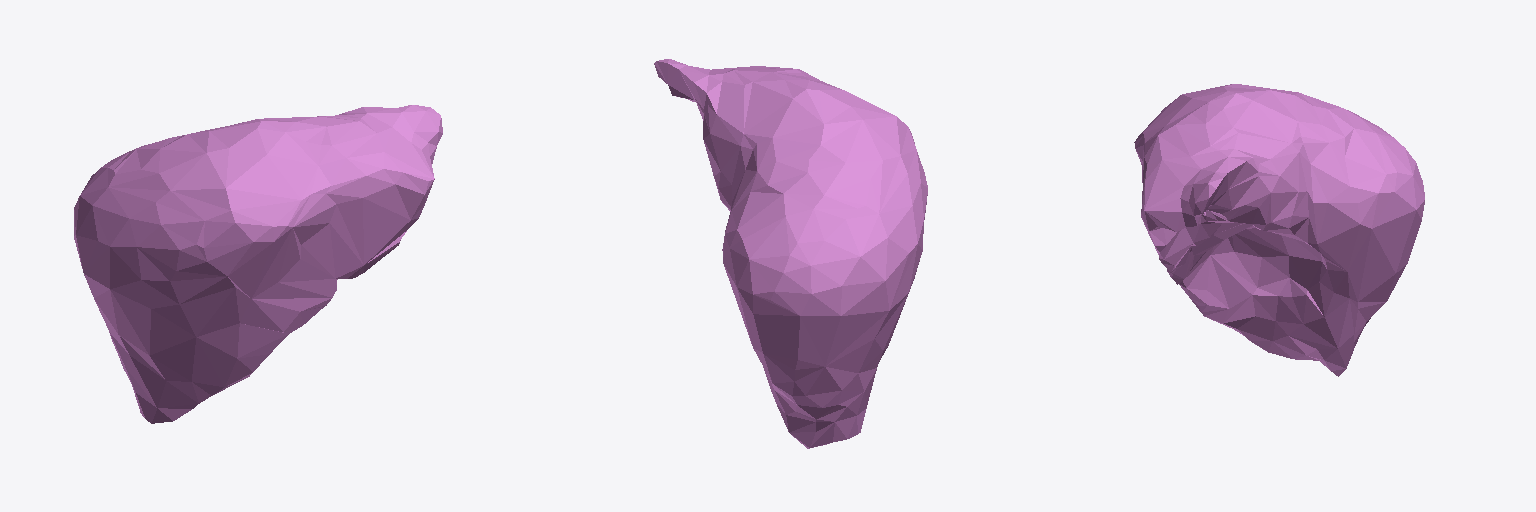
The picture shows the model from 3 angles: view 1: azimuth 30°, elevation 25°; view 2: azimuth 150°, elevation 25°; view 3: azimuth 270°, elevation 25°; orthographic projection.
Parts seen in each view (by area): view 1: Polygonal_Model_5_Triangles_0; view 2: Polygonal_Model_5_Triangles_0; view 3: Polygonal_Model_5_Triangles_0.
Part boxes in pixels (bbox=[...]): Polygonal_Model_5_Triangles_0: bbox=[74, 105, 442, 423]; Polygonal_Model_5_Triangles_0: bbox=[654, 59, 927, 448]; Polygonal_Model_5_Triangles_0: bbox=[1134, 84, 1424, 376].
Size of the model in its own units: 7.63 by 7.54 by 6.42.